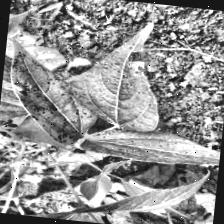ALS: (3, 42, 92, 144), (87, 28, 172, 132), (81, 120, 222, 168)
